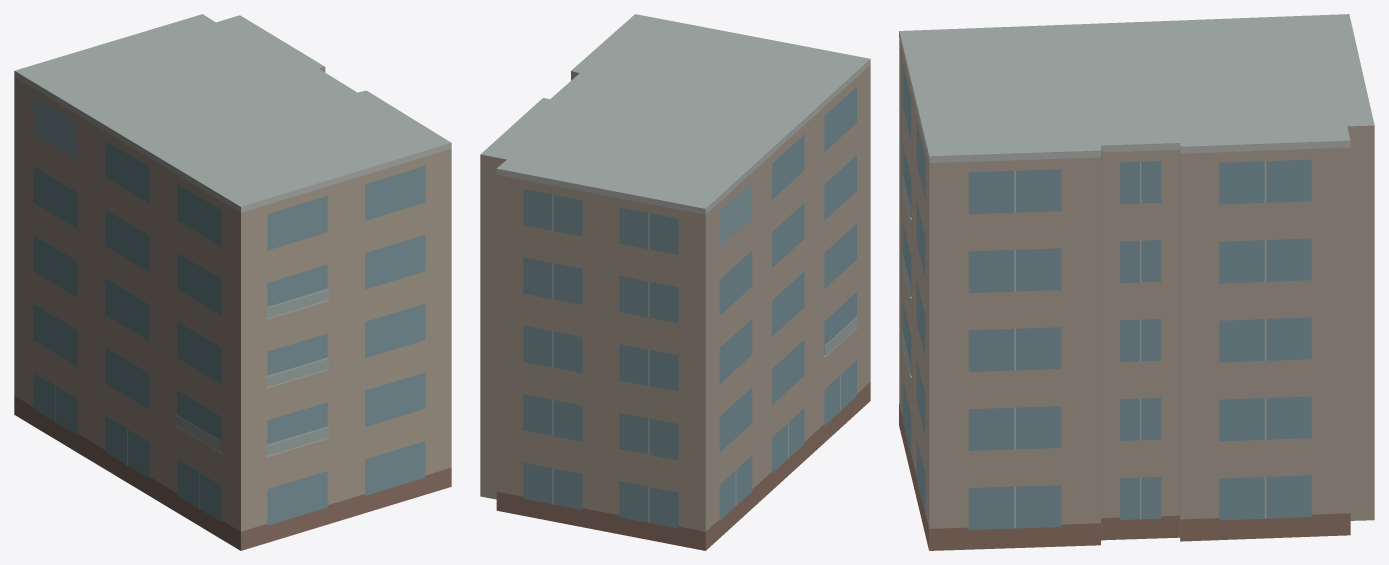
The model's file is survey-upis-33003634.glb.
3 views of the same model, side by side, from view 1: azimuth 30°, elevation 25°; view 2: azimuth 150°, elevation 25°; view 3: azimuth 270°, elevation 25° (orthographic). The views are drawn at different scales.
Visible parts, largest first — view 1: survey-upis-33003634.tmp; view 2: survey-upis-33003634.tmp; view 3: survey-upis-33003634.tmp.
Boxes of the visible parts, box(x1,y1,x2,y2) form: survey-upis-33003634.tmp: box(14, 14, 451, 550); survey-upis-33003634.tmp: box(480, 14, 870, 550); survey-upis-33003634.tmp: box(899, 14, 1374, 550).
Bounding box in the file's own units: 10.83 × 14 × 15.3.
